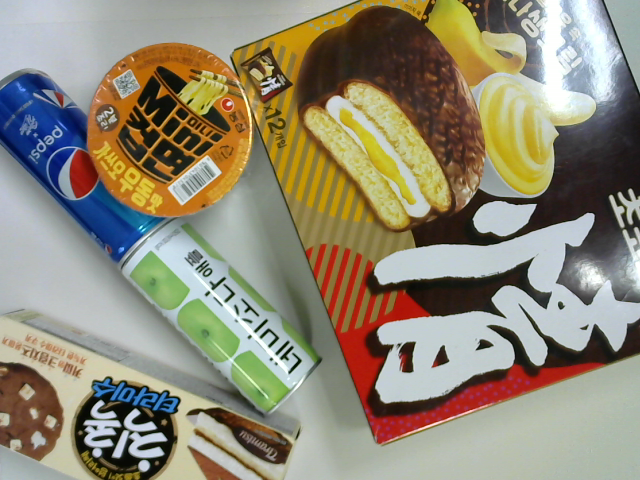Chicchok_Tiramisu: (1, 303, 304, 480)
Choco_Pie_Banana: (230, 1, 640, 446)
Demisoda_Apple_Can_250ml: (117, 218, 323, 419)
Pepsi_Cola_Can_250ml: (1, 66, 179, 266)
Udongmini: (87, 41, 253, 218)
